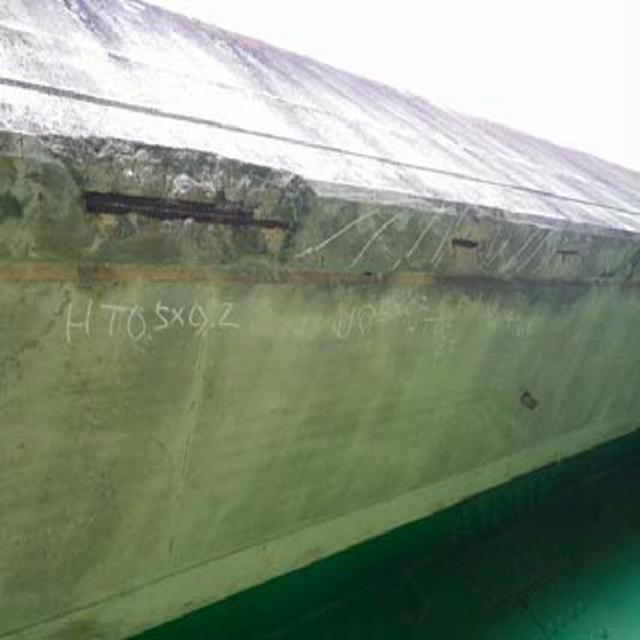spalling: (48, 110, 312, 274), (440, 206, 591, 276)
